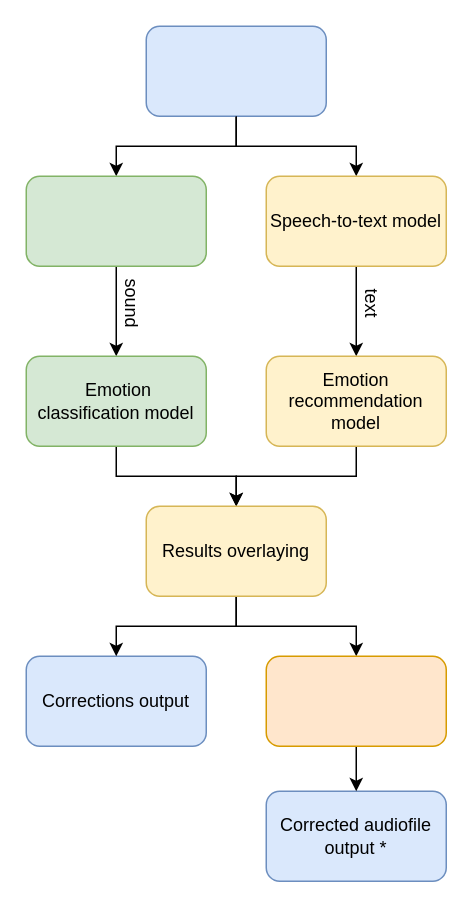
This 473x908 diagram has some shape labels left out. Here are the shapes that lost their labels. From the top down, the centre of each, then its label:
At [235,70]: "Audio input".
At [115,220]: "Audio preprocessing".
At [355,700]: "Emotion transfer/correction model *".
